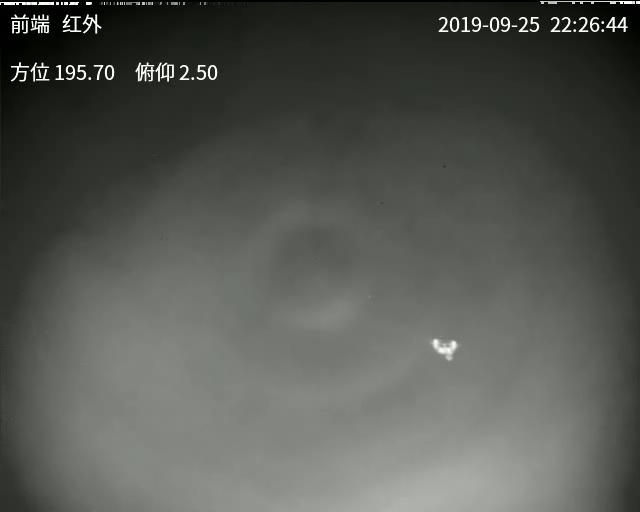uav: (428, 331, 461, 366)
